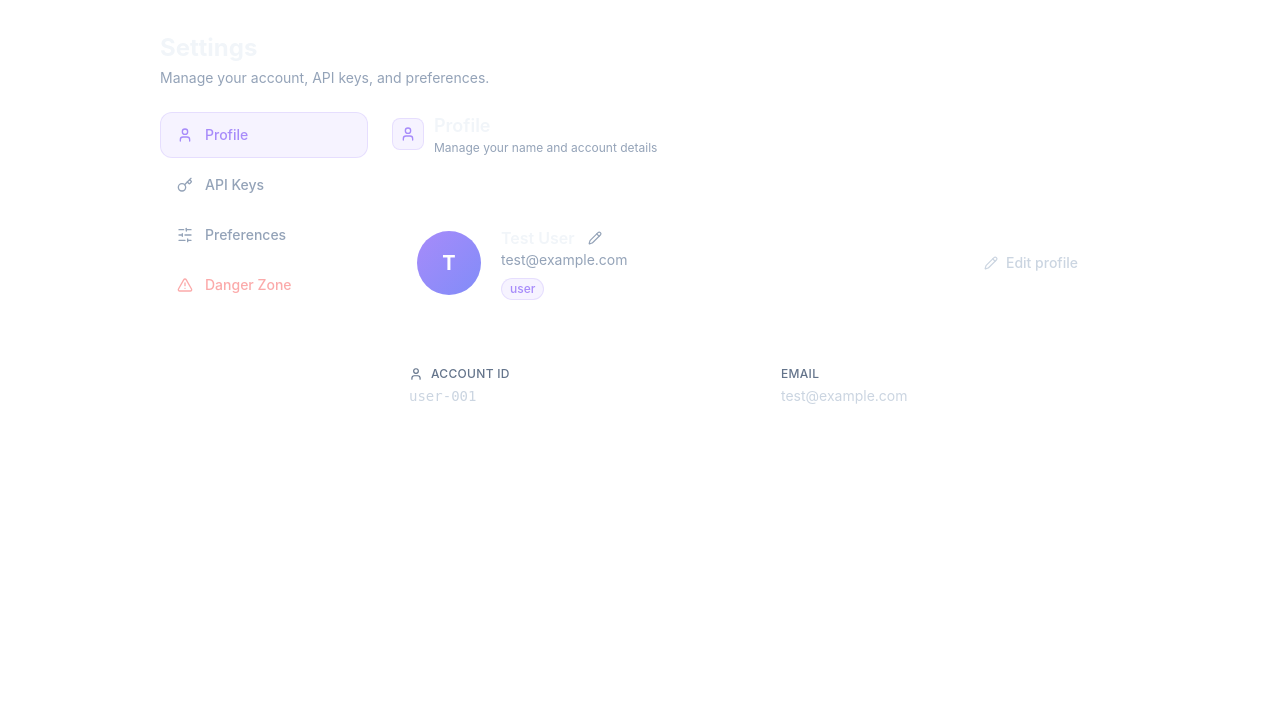
Test case: Revoke API key › shows confirm dialog before revoking
Click the button "API Keys" at (264, 185), box [160,162,368,208]
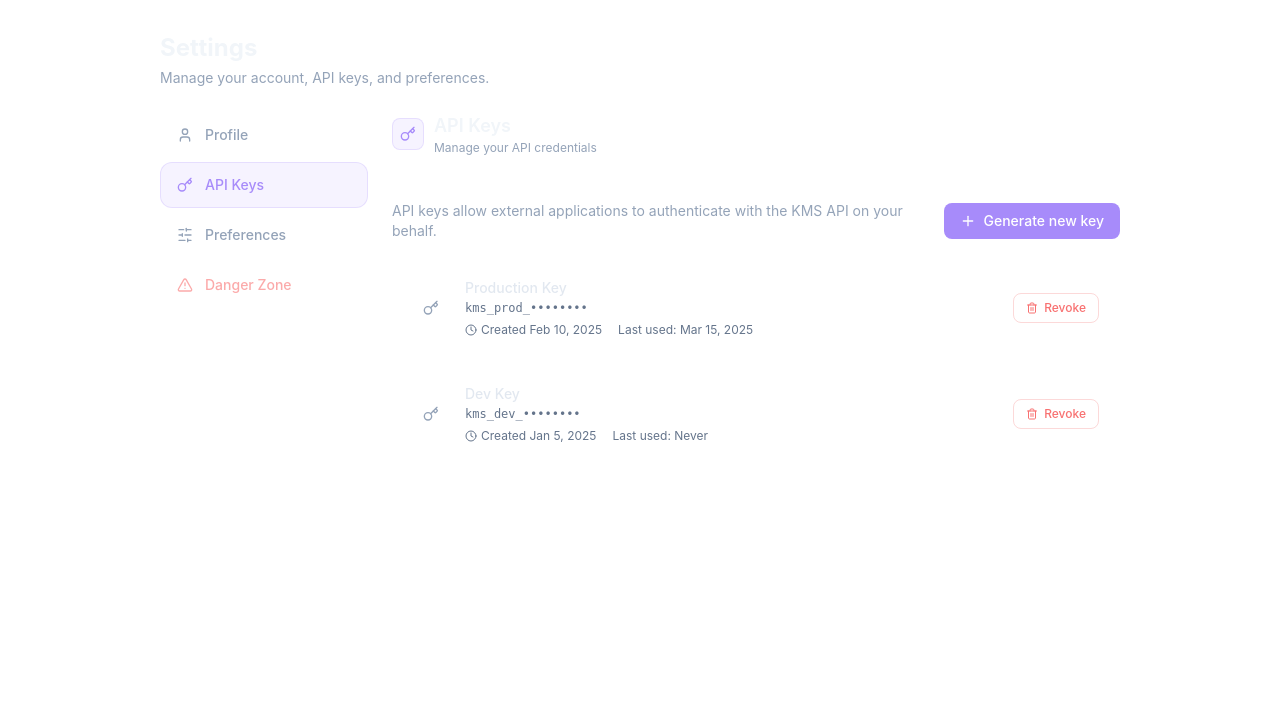
Result: the text "Production Key" is shown at [465,279,567,296]
Click the button with aria-label "Revoke API key" at (1056, 308), box [1013,293,1099,323]
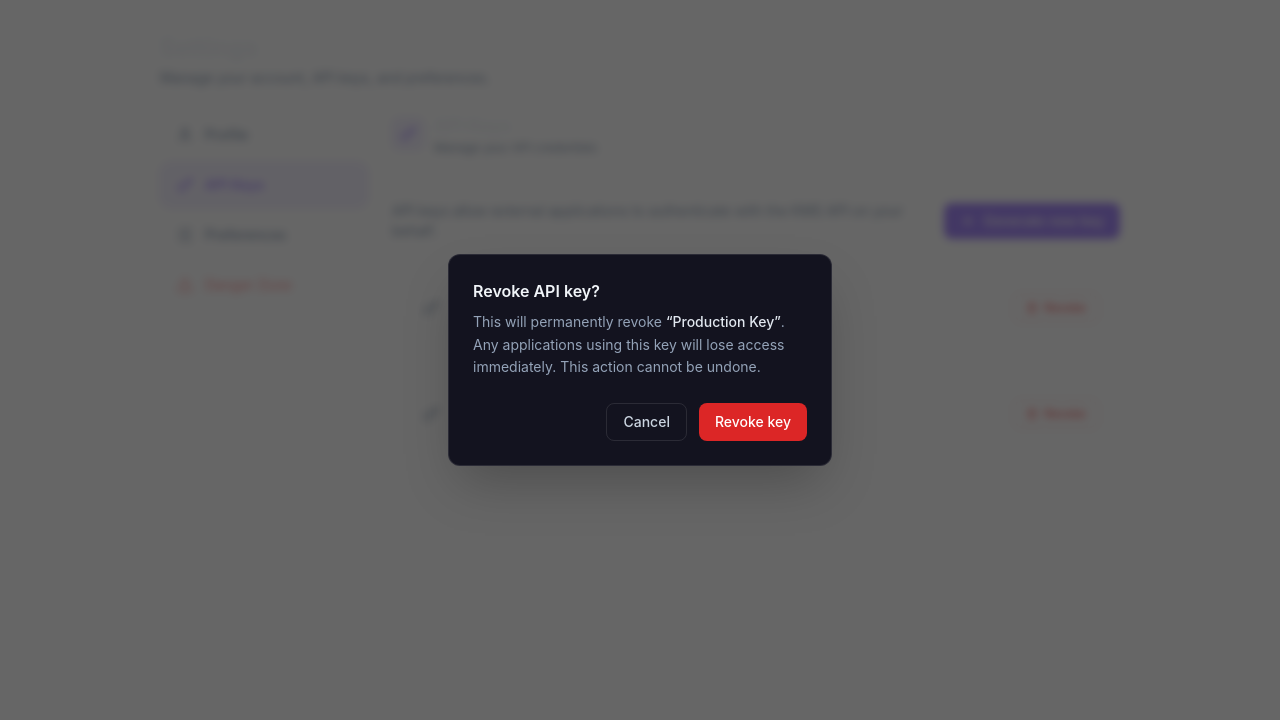
Result: the dialog "Revoke API key?" is shown
